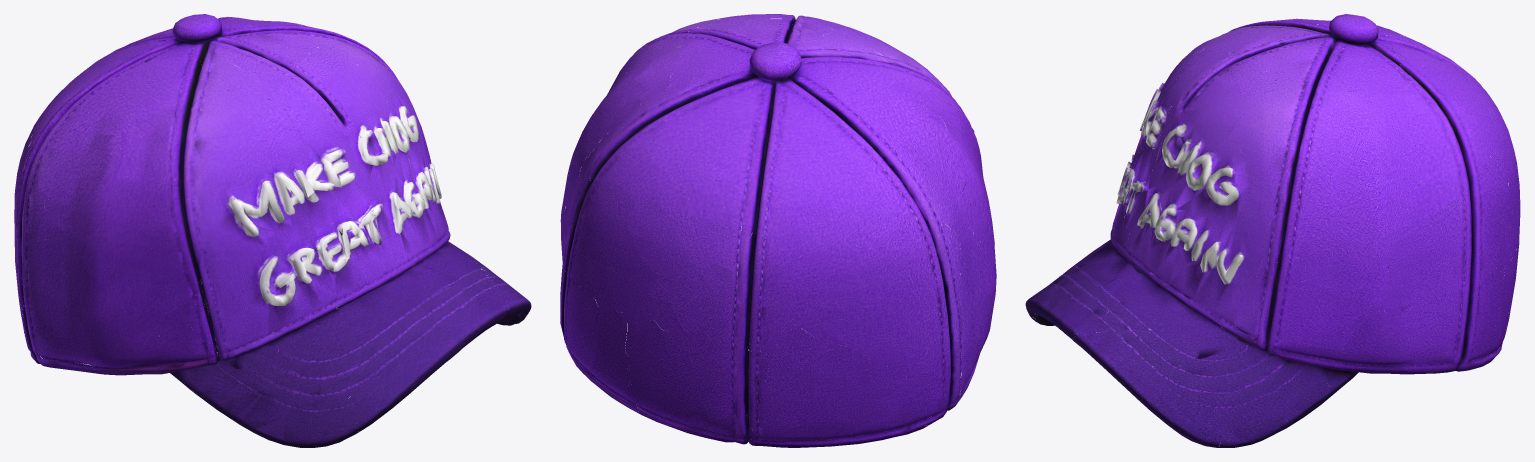
The model's file is mcga-cap.glb.
The picture shows the model from 3 angles, left to right: view 1: azimuth 30°, elevation 25°; view 2: azimuth 150°, elevation 25°; view 3: azimuth 270°, elevation 25°; orthographic projection. The views are drawn at different scales.
Visible parts, largest first — view 1: ChogTrait_mcga-cap; view 2: ChogTrait_mcga-cap; view 3: ChogTrait_mcga-cap.
Boxes of the visible parts, x1,y1,x2,y2 form: ChogTrait_mcga-cap: [14, 14, 531, 447]; ChogTrait_mcga-cap: [560, 14, 996, 447]; ChogTrait_mcga-cap: [1025, 14, 1520, 447].
Bounding box in the file's own units: 0.8602 × 0.6277 × 0.8804.
Materials: 1 (1 with a texture image).
